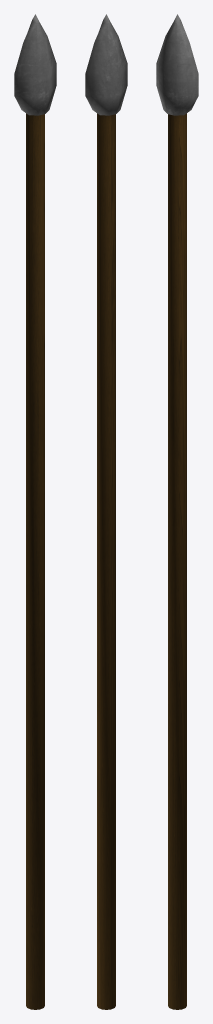
Rendered from Spear.fbx.
The picture shows the model from 3 angles, left to right: view 1: azimuth 30°, elevation 25°; view 2: azimuth 210°, elevation 25°; view 3: azimuth 330°, elevation 25°; orthographic projection.
Parts seen in each view (by area): view 1: Spear; view 2: Spear; view 3: Spear.
Boxes of the visible parts, x1=… form: Spear: x1=14, y1=14, x2=56, y2=1009; Spear: x1=85, y1=14, x2=127, y2=1009; Spear: x1=156, y1=14, x2=198, y2=1009.
Size of the model in its own units: 40 by 902 by 21.65.
